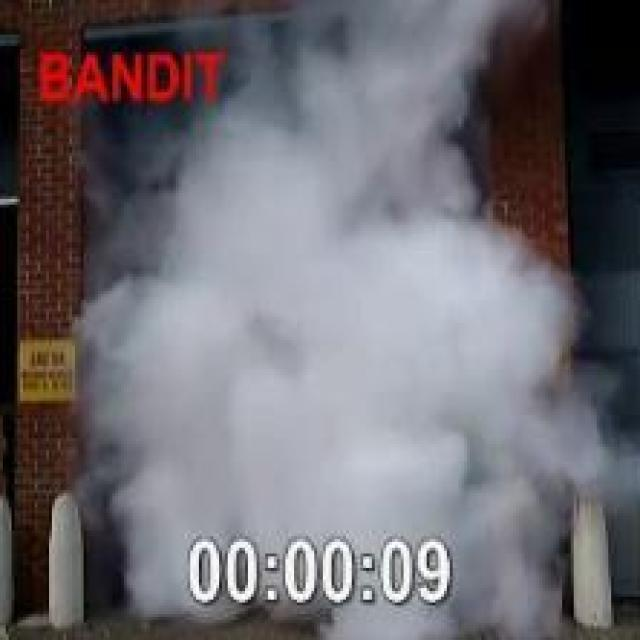fire: (77, 225, 588, 640), (175, 0, 510, 222)
